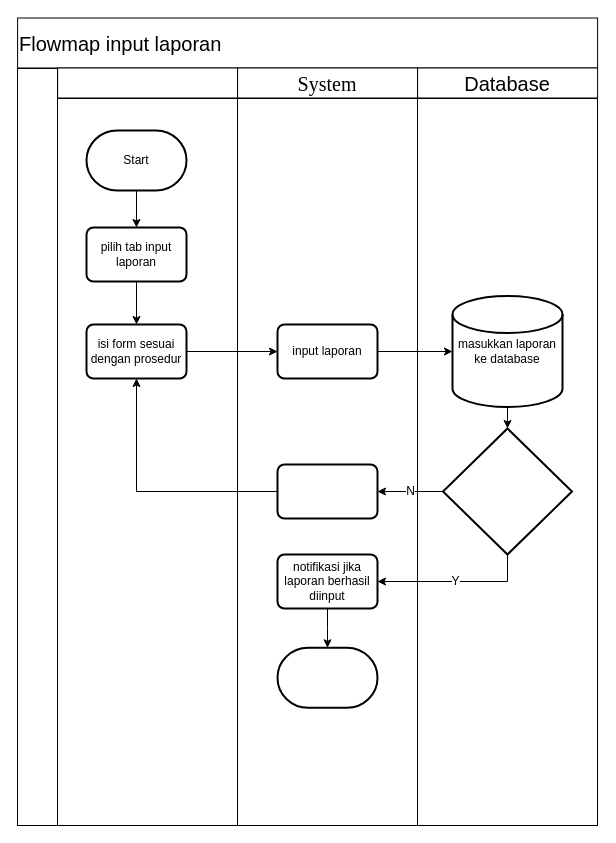
The diagram is 616 pixels wide and 843 high, and some of its shapes have lost their labels. The shapes that lost their labels are listed below. From the top down, each one's centre as x and y in pixels, then its label:
At (147,82): "User".
At (327,491): "notifikasi jika laporan gagal diinput".
At (507,491): "apakah laporan masuk ke database?".
At (327,677): "End".
